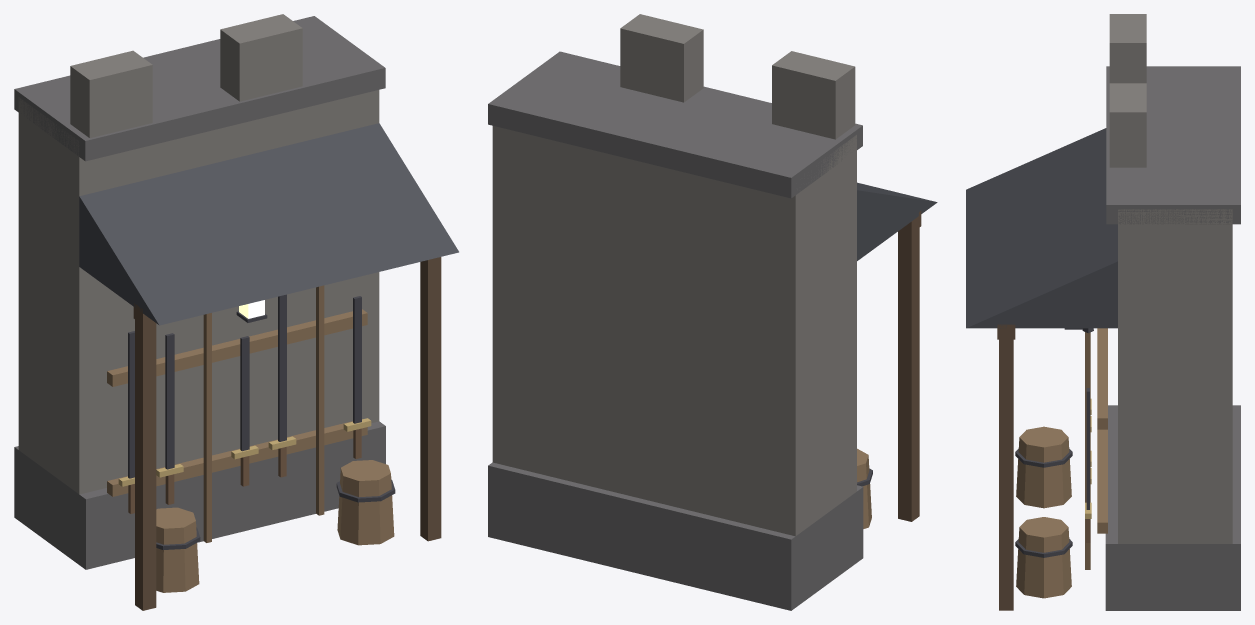
File: armoury_bay.glb
3 renders of one model, left to right at view 1: azimuth 30°, elevation 25°; view 2: azimuth 150°, elevation 25°; view 3: azimuth 270°, elevation 25°, orthographic. The views are drawn at different scales.
Visible parts, largest first — view 1: Upper, Plinth; view 2: Upper, Plinth; view 3: Upper, Plinth.
Part boxes in pixels (<box>): Upper: <box>14,14,458,610</box>; Plinth: <box>14,421,385,569</box>; Upper: <box>488,14,937,536</box>; Plinth: <box>488,462,863,610</box>; Upper: <box>966,14,1240,610</box>; Plinth: <box>1105,405,1240,610</box>.
Bounding box in the file's own units: 4 × 6.2 × 3.35.
